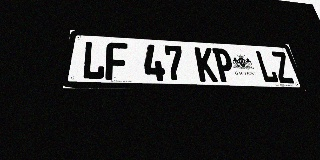4: (143, 44, 165, 81)
7: (163, 45, 186, 81)
F: (105, 42, 128, 80)
K: (194, 47, 218, 82)
L: (81, 41, 106, 80), (254, 50, 280, 83)
P: (212, 48, 236, 82)
Z: (270, 51, 295, 83)
